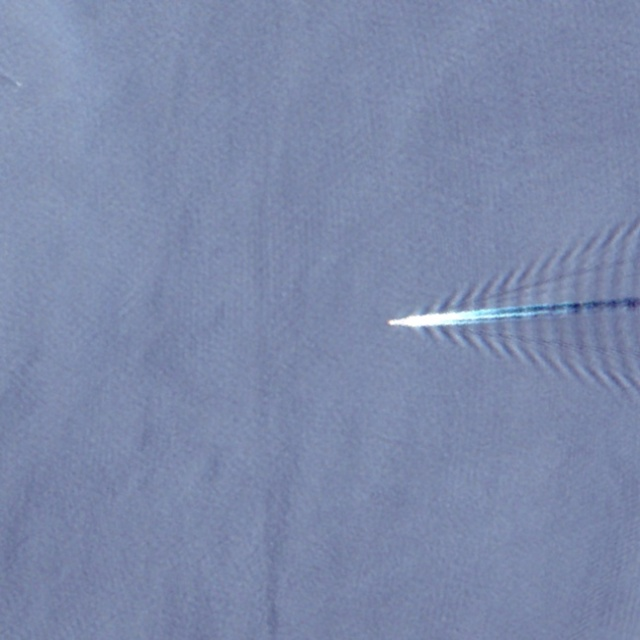wake: (377, 241, 587, 394)
